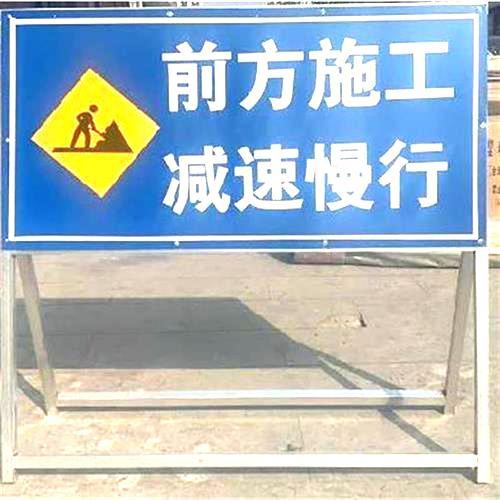sign: (6, 12, 480, 245)
